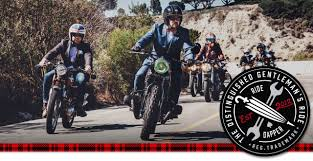helmet: (158, 3, 183, 36), (66, 23, 93, 45)
